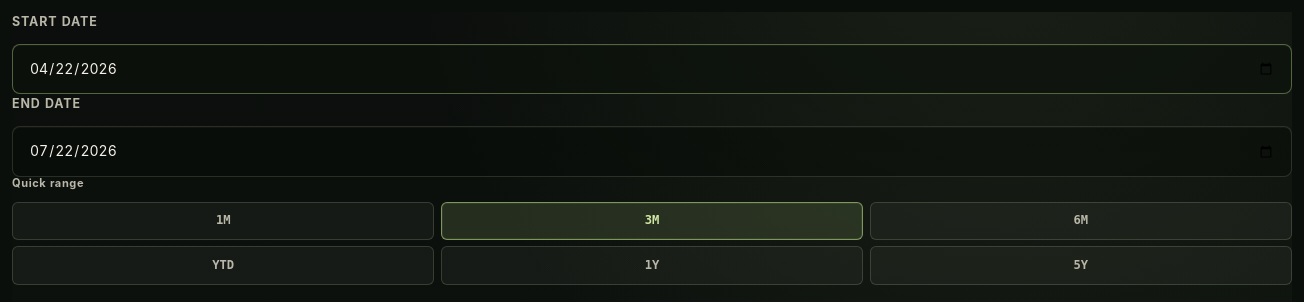
Scenario: DateInput quick ranges › updates both dates immediately from each preset
This screenshot has width=1304, height=302.
Expected: the date field labelled "Start Date" holds "2026-04-22", [12,44,1292,94]
Expected: the date field labelled "End Date" holds "2026-07-22", [12,126,1292,177]
Click the button "1M".
click(223, 221)  # box [12,202,434,240]
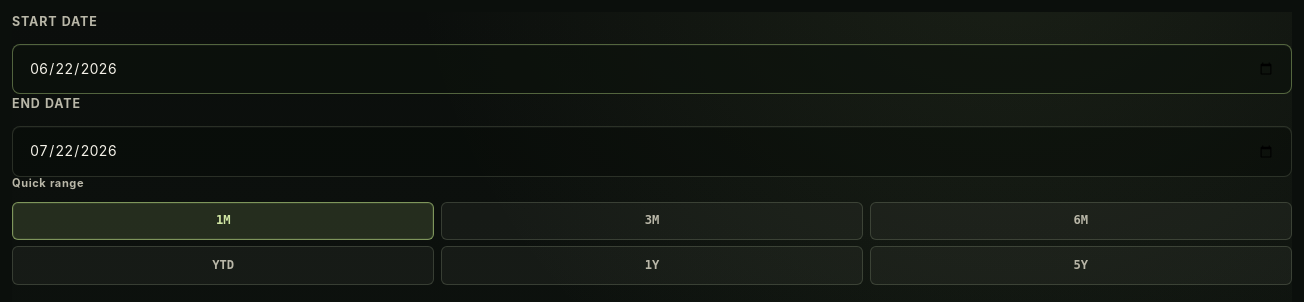
Now the date field labelled "Start Date" holds "2026-06-22", box [12,44,1292,94]
Click the button "6M".
click(1081, 221)  # box [870,202,1292,240]
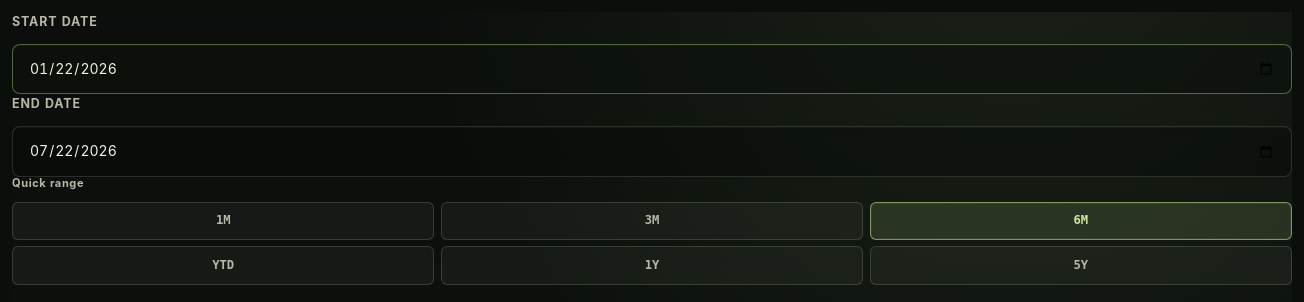
Now the date field labelled "Start Date" holds "2026-01-22", box [12,44,1292,94]
Click the button "1Y".
click(652, 266)  # box [441,246,863,285]
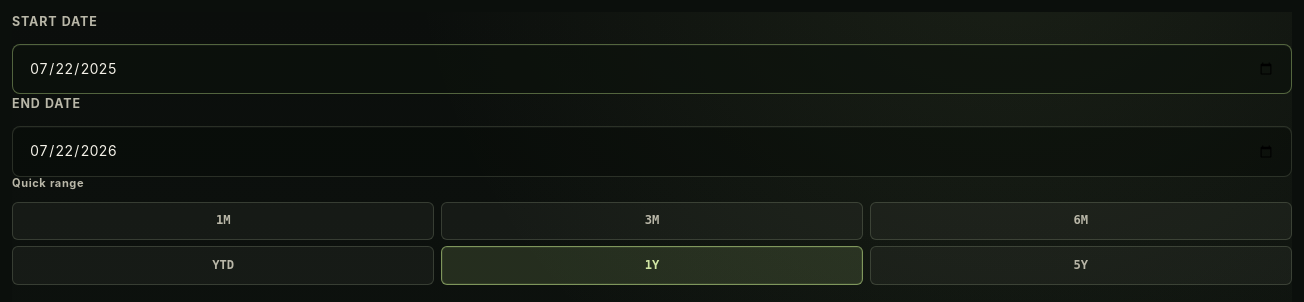
Now the date field labelled "Start Date" holds "2025-07-22", box [12,44,1292,94]
Click the button "YTD".
click(223, 266)  # box [12,246,434,285]
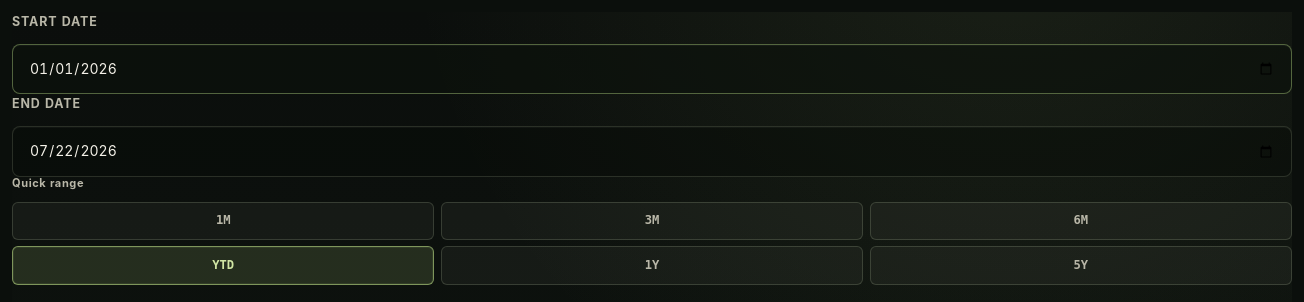
Now the date field labelled "Start Date" holds "2026-01-01", box [12,44,1292,94]
Click the button "5Y".
click(1081, 266)  # box [870,246,1292,285]
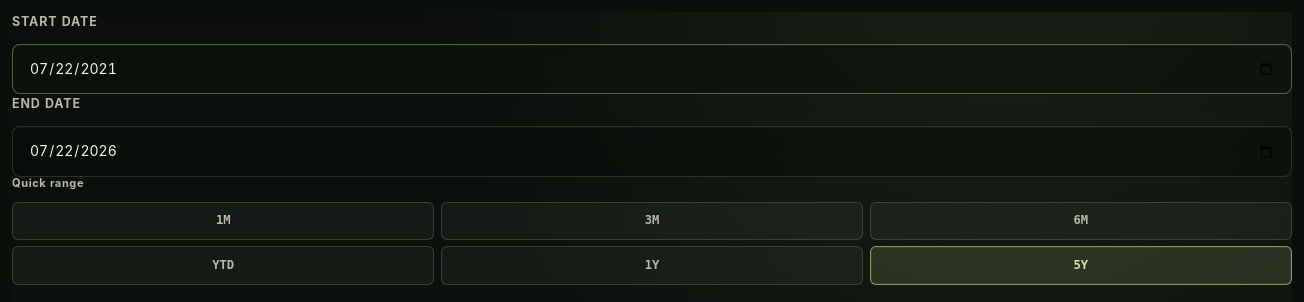
Now the date field labelled "Start Date" holds "2021-07-22", box [12,44,1292,94]
